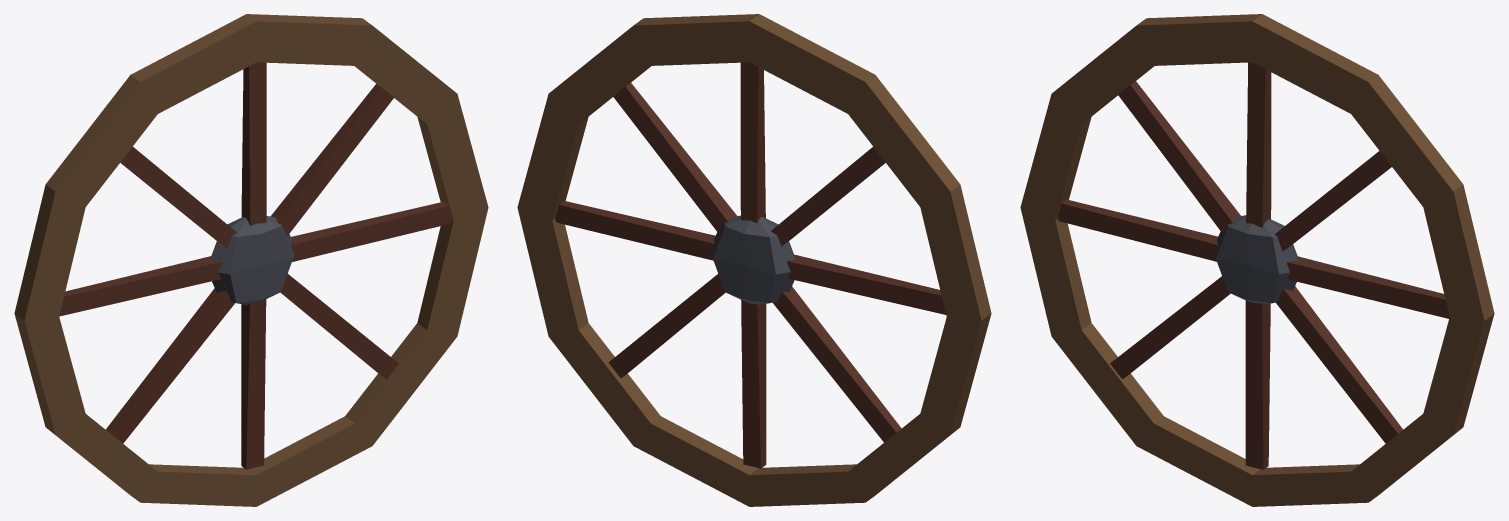
Rendered from WoodWheel.glb.
The picture shows the model from 3 angles, left to right: view 1: azimuth 30°, elevation 25°; view 2: azimuth 150°, elevation 25°; view 3: azimuth 330°, elevation 25°; orthographic projection.
Parts seen in each view (by area): view 1: WoodWheel2; view 2: WoodWheel2; view 3: WoodWheel2.
Boxes of the visible parts, x1,y1,x2,y2 form: WoodWheel2: (14,14,488,506); WoodWheel2: (517,14,991,506); WoodWheel2: (1020,14,1494,506).
Size of the model in its own units: 1.55 by 1.55 by 0.1162.
2 materials, 2 textured.
